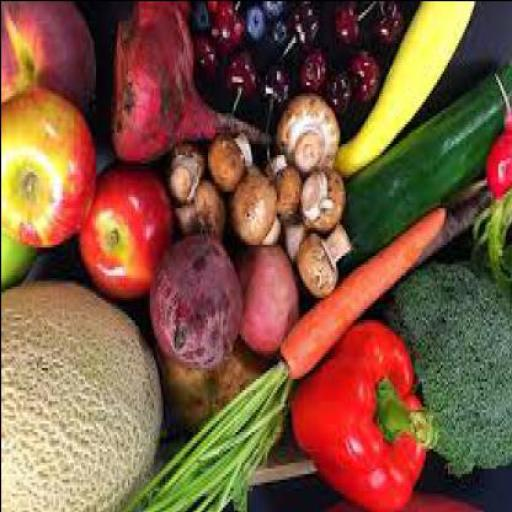biodegradable: (2, 280, 165, 511), (344, 64, 510, 276), (288, 316, 438, 511), (281, 212, 446, 381), (112, 3, 276, 168), (389, 260, 511, 480), (117, 363, 294, 511), (337, 3, 479, 182), (2, 89, 95, 252), (160, 349, 287, 453), (78, 171, 172, 302), (150, 244, 246, 369), (2, 2, 96, 114), (411, 180, 497, 268), (238, 249, 300, 358), (279, 96, 341, 176), (229, 170, 281, 247), (472, 193, 510, 298), (300, 230, 350, 302), (231, 174, 281, 246), (177, 185, 227, 241), (301, 174, 346, 232), (2, 226, 37, 296), (266, 154, 301, 224), (207, 138, 246, 196), (285, 3, 324, 59), (348, 50, 382, 114), (494, 72, 510, 202), (360, 2, 402, 50), (224, 56, 256, 118), (213, 3, 247, 56), (192, 34, 222, 92), (324, 67, 352, 126), (331, 3, 363, 50), (170, 154, 204, 198), (300, 53, 328, 95), (287, 221, 307, 274), (261, 64, 288, 101), (236, 132, 255, 171), (248, 6, 266, 42), (266, 221, 285, 252), (270, 25, 289, 56), (190, 11, 212, 33), (263, 2, 285, 20), (274, 154, 290, 176), (208, 3, 224, 22)
